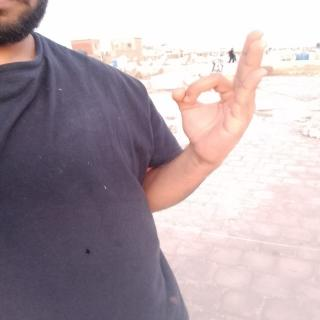Space: (169, 27, 266, 166)
